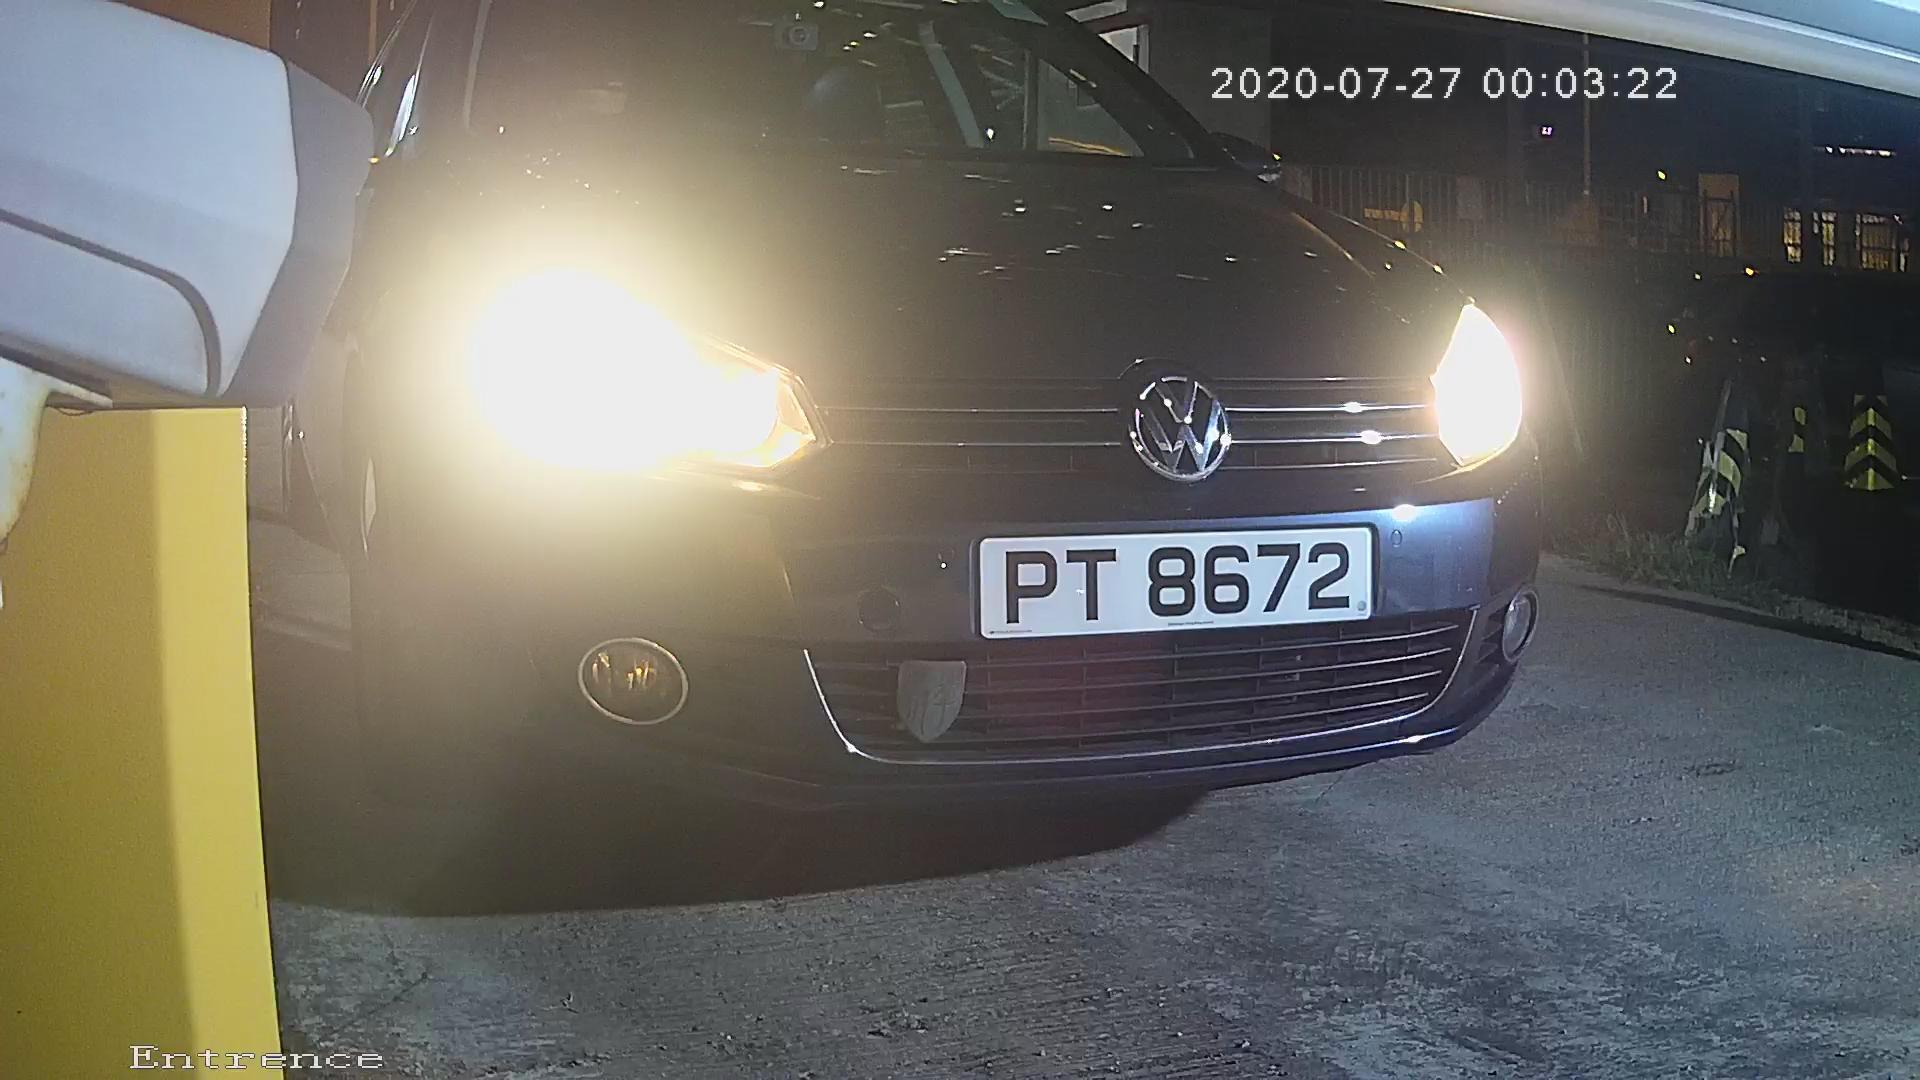License Plate: (943, 516, 1381, 647)
